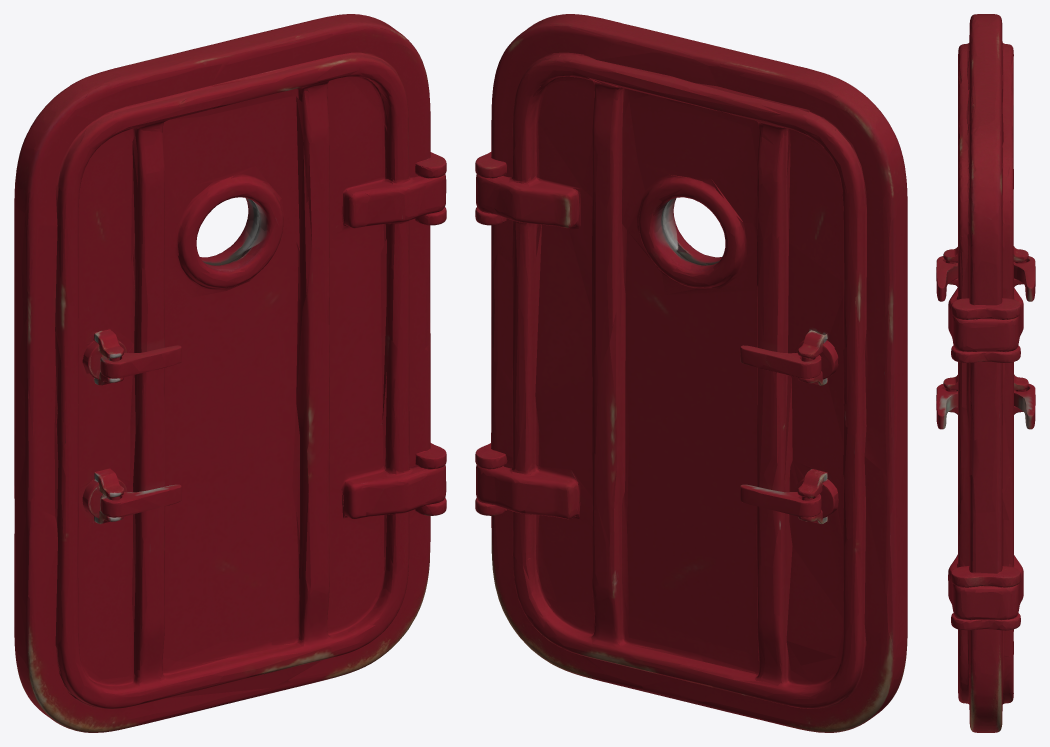
File: porta_tagliafuoco.glb
The picture shows the model from 3 angles, left to right: view 1: azimuth 30°, elevation 25°; view 2: azimuth 150°, elevation 25°; view 3: azimuth 270°, elevation 25°; orthographic projection. The views are drawn at different scales.
Parts seen in each view (by area): view 1: Mesh_0; view 2: Mesh_0; view 3: Mesh_0.
Boxes of the visible parts, x1,y1,x2,y2 form: Mesh_0: (14,14,446,732); Mesh_0: (475,14,907,732); Mesh_0: (936,14,1035,732).
Size of the model in its own units: 1.27 by 1.9 by 0.2849.
Materials: 1 (1 with a texture image).
